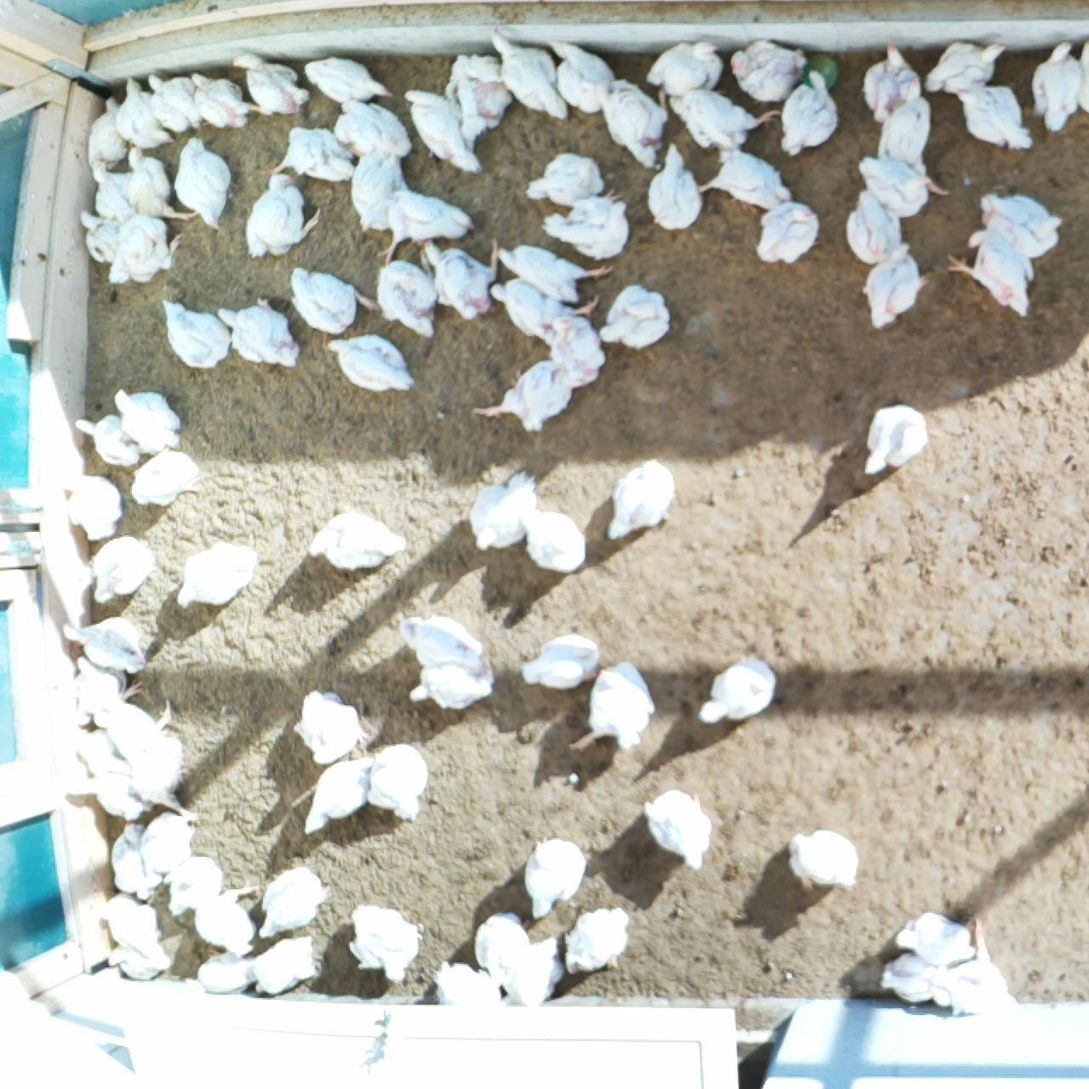chicken: (872, 76, 951, 198), (944, 221, 1038, 321), (937, 913, 1023, 1020), (567, 659, 656, 754), (375, 188, 478, 269), (472, 355, 573, 435), (488, 26, 571, 120), (595, 78, 673, 172), (494, 240, 616, 300), (667, 89, 781, 153), (492, 275, 600, 342), (423, 239, 506, 323), (405, 87, 485, 174), (289, 266, 383, 340), (691, 144, 793, 212), (242, 173, 324, 257), (85, 696, 182, 765), (129, 732, 201, 824), (858, 241, 929, 334), (215, 296, 301, 372), (694, 651, 780, 727), (445, 51, 512, 146), (300, 754, 376, 837), (347, 903, 423, 985), (952, 78, 1033, 154), (856, 401, 930, 484), (308, 510, 407, 572), (641, 787, 714, 871), (107, 210, 183, 290), (858, 153, 949, 219), (467, 470, 538, 554), (328, 90, 412, 160), (543, 195, 632, 261), (123, 147, 199, 224), (175, 136, 237, 229), (606, 456, 674, 540), (158, 299, 235, 373), (522, 835, 586, 924), (346, 146, 412, 232), (177, 540, 258, 610), (323, 332, 415, 393), (373, 254, 442, 335), (546, 38, 616, 116), (778, 66, 838, 157), (257, 865, 331, 938), (192, 879, 263, 955), (974, 194, 1059, 256), (296, 687, 365, 763), (56, 468, 126, 542), (112, 386, 187, 455), (232, 51, 311, 116), (60, 618, 150, 674), (841, 190, 907, 266), (406, 659, 497, 714), (924, 37, 1006, 98), (729, 37, 807, 101), (547, 310, 608, 391), (863, 43, 924, 124), (502, 933, 566, 1010), (268, 126, 354, 183), (646, 144, 703, 230), (563, 908, 631, 980), (60, 772, 154, 824), (188, 68, 270, 127), (893, 910, 975, 969), (97, 891, 166, 961), (1033, 40, 1086, 131), (597, 285, 670, 351), (790, 826, 861, 893), (517, 507, 589, 573), (69, 656, 143, 720), (128, 448, 203, 511), (520, 632, 600, 691), (369, 740, 427, 821), (88, 535, 155, 604), (399, 612, 482, 667), (754, 200, 821, 267), (525, 153, 605, 209), (644, 40, 724, 96), (473, 911, 531, 988), (303, 54, 389, 104), (109, 818, 160, 902), (113, 78, 174, 148), (252, 934, 318, 997), (875, 953, 953, 1006), (137, 811, 199, 876), (163, 854, 223, 919), (74, 411, 142, 468), (433, 959, 505, 1012), (185, 947, 257, 996), (147, 70, 202, 132), (86, 93, 127, 176), (70, 725, 129, 781), (104, 938, 173, 984), (90, 156, 135, 225), (80, 208, 124, 267), (1075, 38, 1089, 117)
